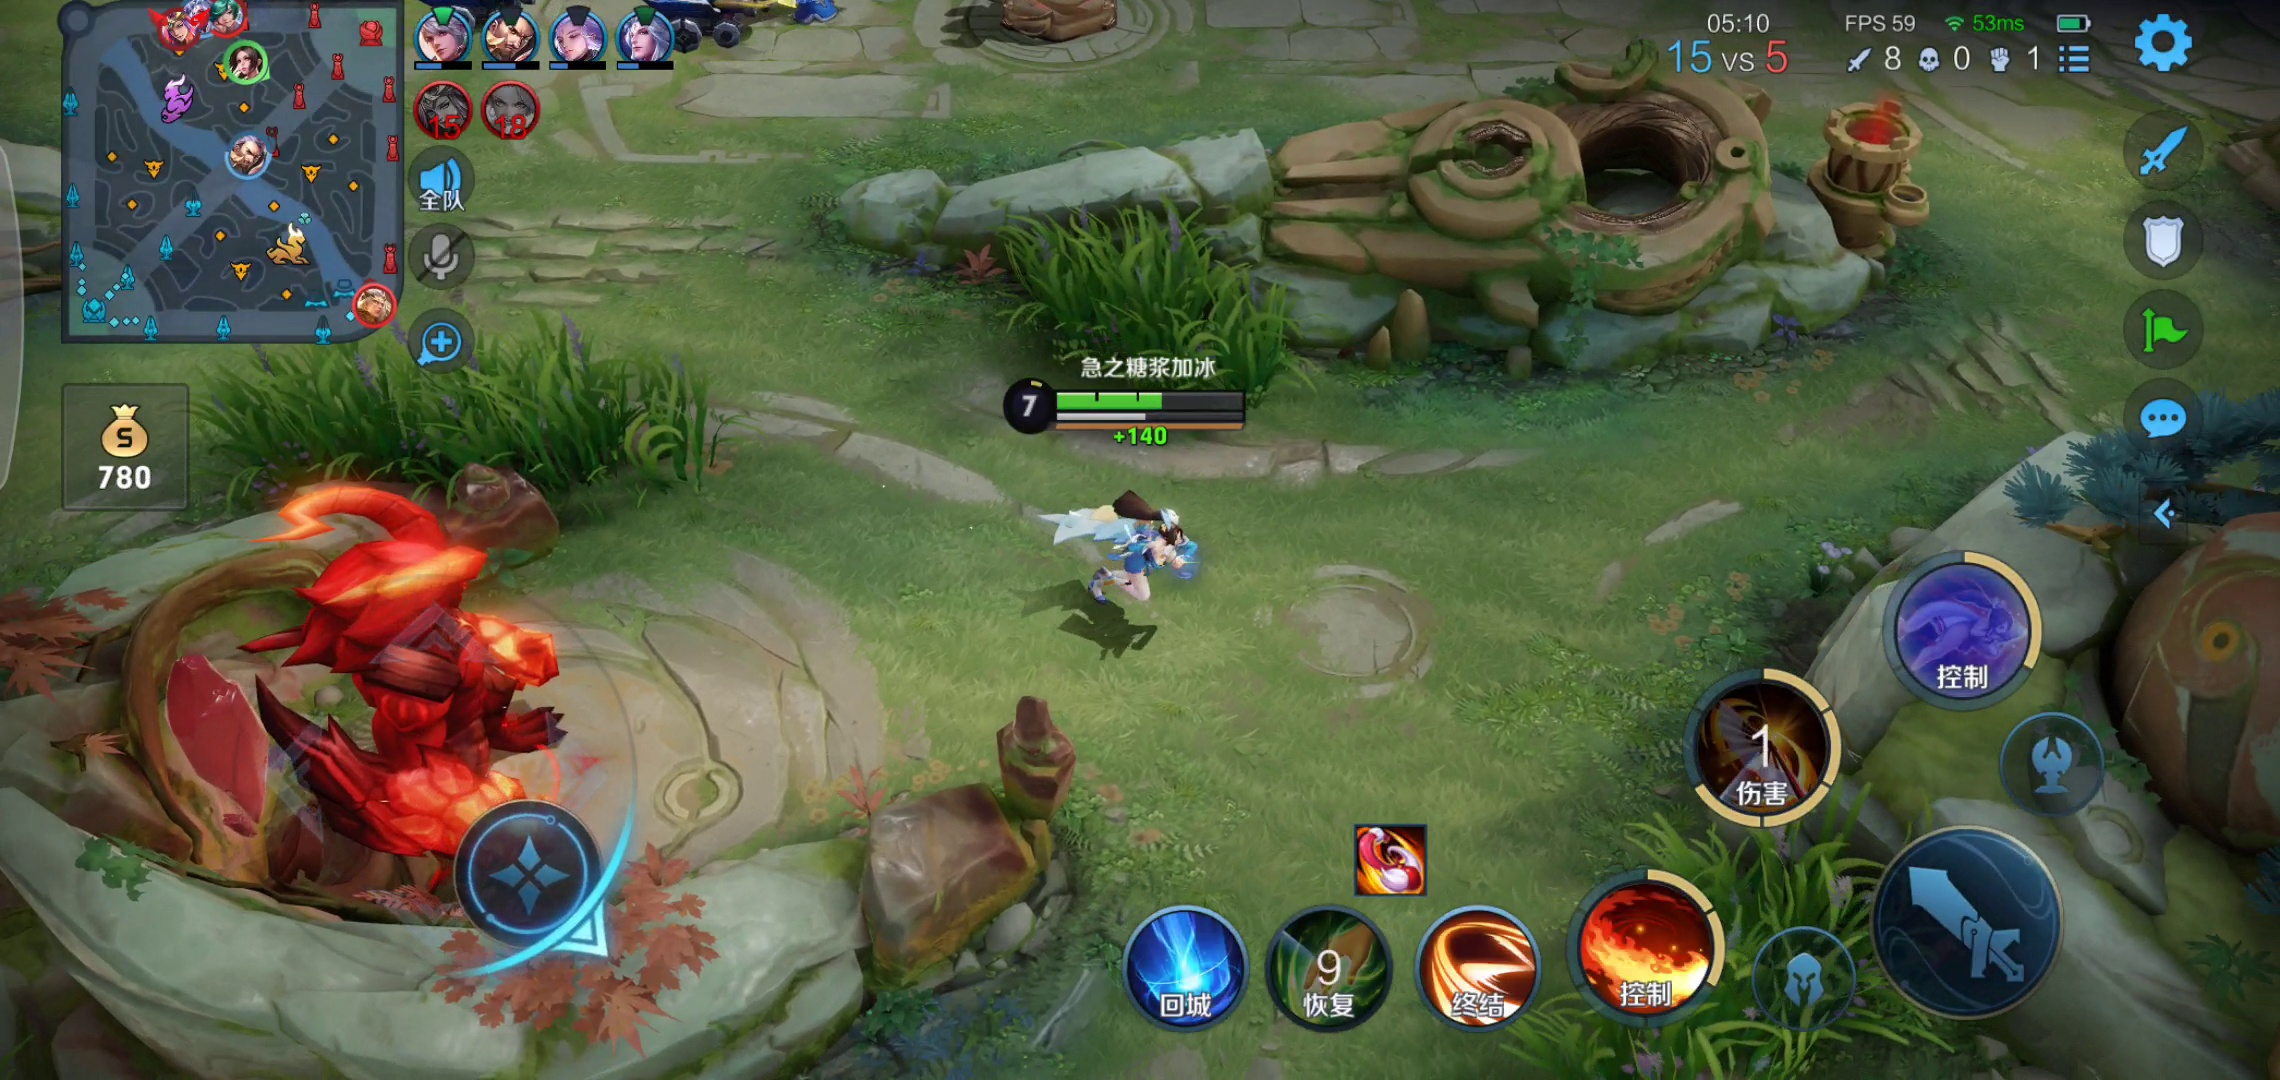buff: (212, 515, 582, 894)
grass: (1602, 789, 1937, 1080), (186, 358, 718, 481), (986, 209, 1290, 394)
hero: (1018, 472, 1245, 628)
